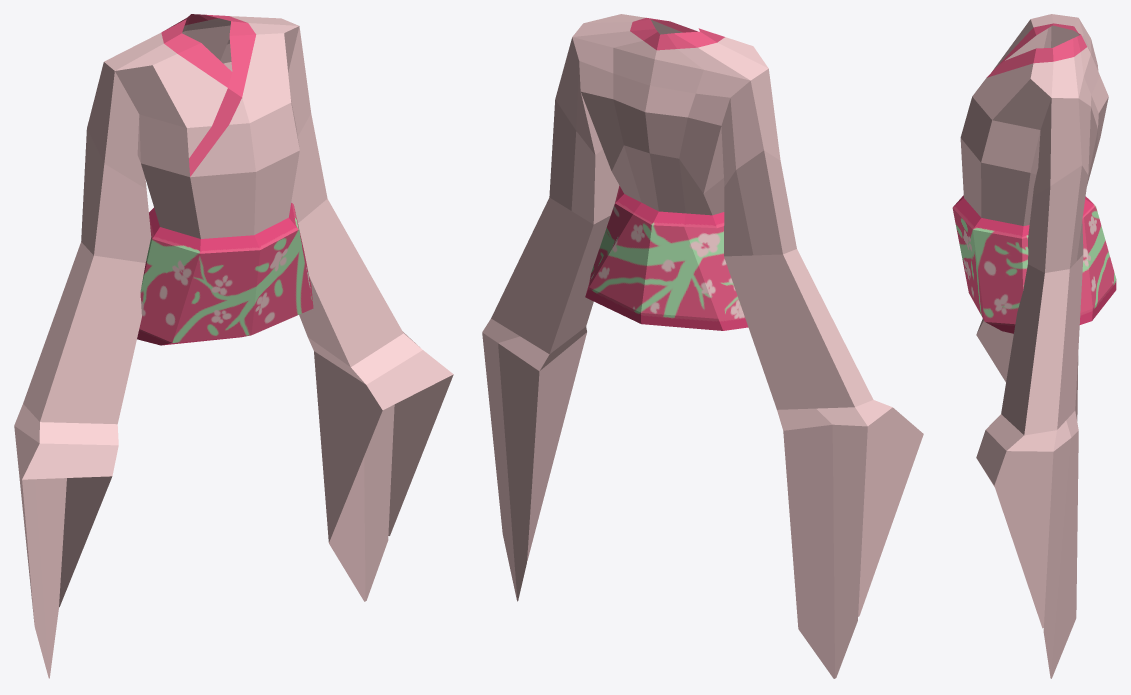
File: kimono_top.fbx
3 renders of one model, left to right at view 1: azimuth 30°, elevation 25°; view 2: azimuth 150°, elevation 25°; view 3: azimuth 270°, elevation 25°, orthographic. The views are drawn at different scales.
Parts seen in each view (by area): view 1: KimonoTop; view 2: KimonoTop; view 3: KimonoTop.
Boxes of the visible parts, x1,y1,x2,y2 form: KimonoTop: (14,14,453,678); KimonoTop: (482,14,923,678); KimonoTop: (952,14,1116,678).
Size of the model in its own units: 174 by 238 by 61.49.
